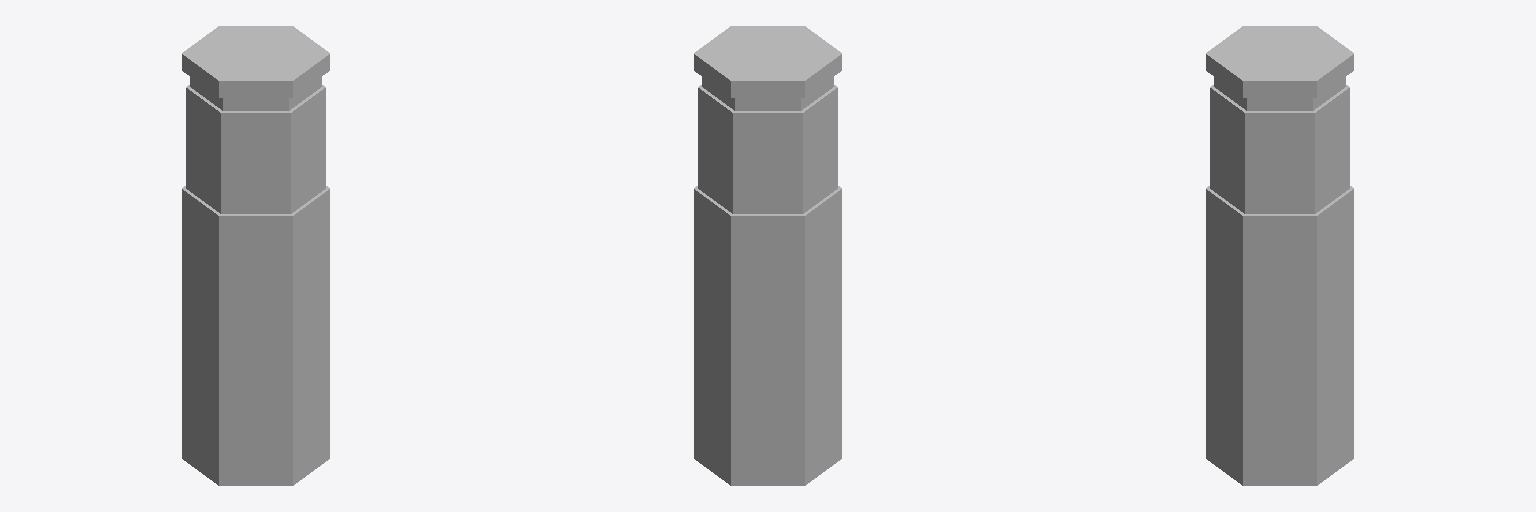
The model's file is Column.obj.
The picture shows the model from 3 angles: view 1: azimuth 30°, elevation 25°; view 2: azimuth 150°, elevation 25°; view 3: azimuth 270°, elevation 25°; orthographic projection.
Visible parts, largest first — view 1: Cylinder_Cylinder.001; view 2: Cylinder_Cylinder.001; view 3: Cylinder_Cylinder.001.
Boxes of the visible parts, <box> form: Cylinder_Cylinder.001: <box>182,26,329,485</box>; Cylinder_Cylinder.001: <box>694,26,841,485</box>; Cylinder_Cylinder.001: <box>1206,26,1353,485</box>.
Size of the model in its own units: 1.73 by 6 by 2.